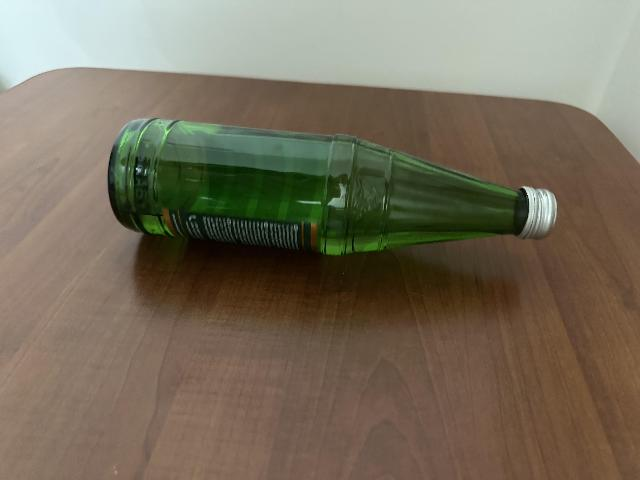Cam: (106, 117, 558, 260)
Metal: (517, 183, 559, 239)
